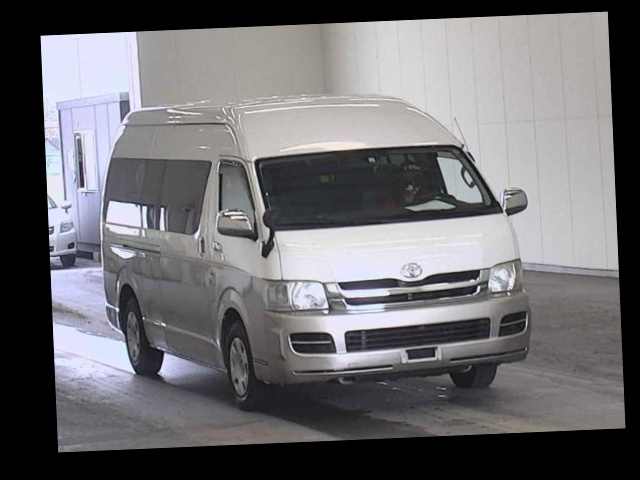van: (91, 79, 538, 407)
